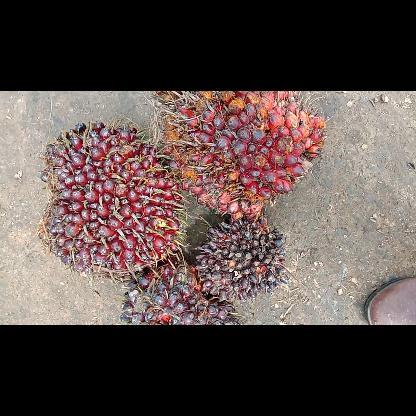Kurang masak: (36, 120, 190, 280), (120, 258, 242, 324)
TBS abnormal: (193, 219, 289, 304)
TBS masak: (155, 90, 327, 224)
